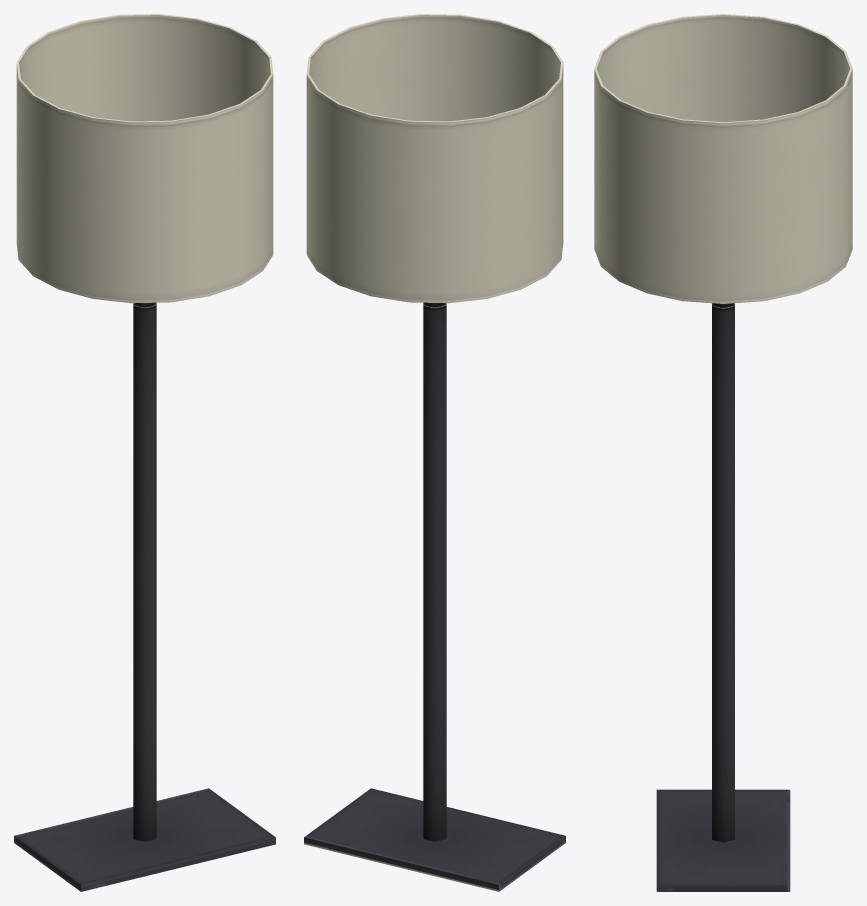
File: Light01A.FBX
3 renders of one model, left to right at view 1: azimuth 30°, elevation 25°; view 2: azimuth 150°, elevation 25°; view 3: azimuth 270°, elevation 25°, orthographic.
Parts seen in each view (by area): view 1: Light01A; view 2: Light01A; view 3: Light01A.
Part boxes in pixels (x1,y1,x2,y2): Light01A: (14,14,275,891); Light01A: (304,14,565,891); Light01A: (594,14,852,891).
Size of the model in its own units: 51.56 by 51.56 by 171.
